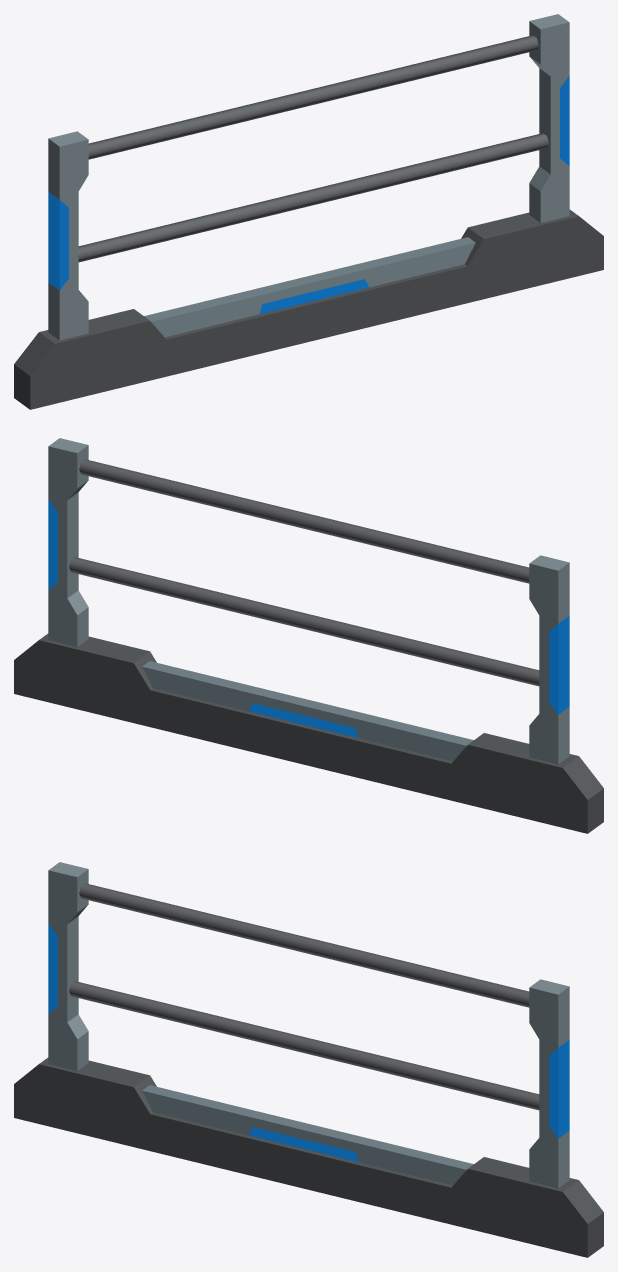
Rendered from Fence_type_B_005.glb.
3 views of the same model, one above another, from view 1: azimuth 30°, elevation 25°; view 2: azimuth 150°, elevation 25°; view 3: azimuth 330°, elevation 25° (orthographic).
Visible parts, largest first — view 1: Fence_type_B_005; view 2: Fence_type_B_005; view 3: Fence_type_B_005.
Part boxes in pixels (<box>): Fence_type_B_005: <box>14,14,603,409</box>; Fence_type_B_005: <box>14,438,603,833</box>; Fence_type_B_005: <box>14,862,603,1257</box>.
Size of the model in its own units: 3.37 by 1.42 by 0.1653.
Materials: 2 (2 with a texture image).
